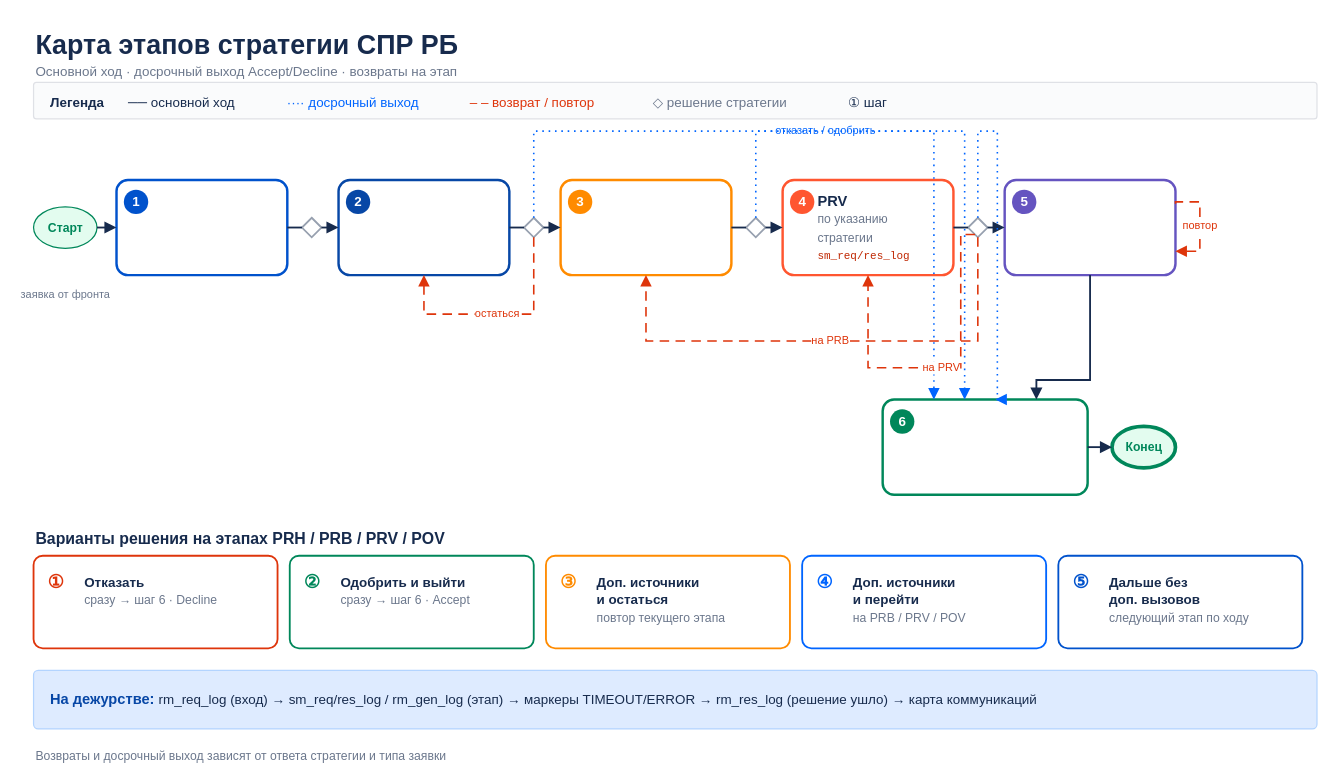
The diagram is 1338 pixels wide and 784 high, and some of its shapes have lost their labels. Each missing label, with the box of its shape:
POV готовое решение sm_req/res_log: (1003, 178, 1176, 276)
PRB AFS / GS / IFPS sm · ifps_*: (559, 178, 732, 276)
PRH безусловное обогащение sm_req/res_log: (337, 178, 510, 276)
Начальный этап OCRM · GlobalSearch rm_req_log: (115, 178, 288, 276)
Ответ фронту Accept / Decline / Error rm_upt_log · rm_res_log: (881, 398, 1088, 495)
